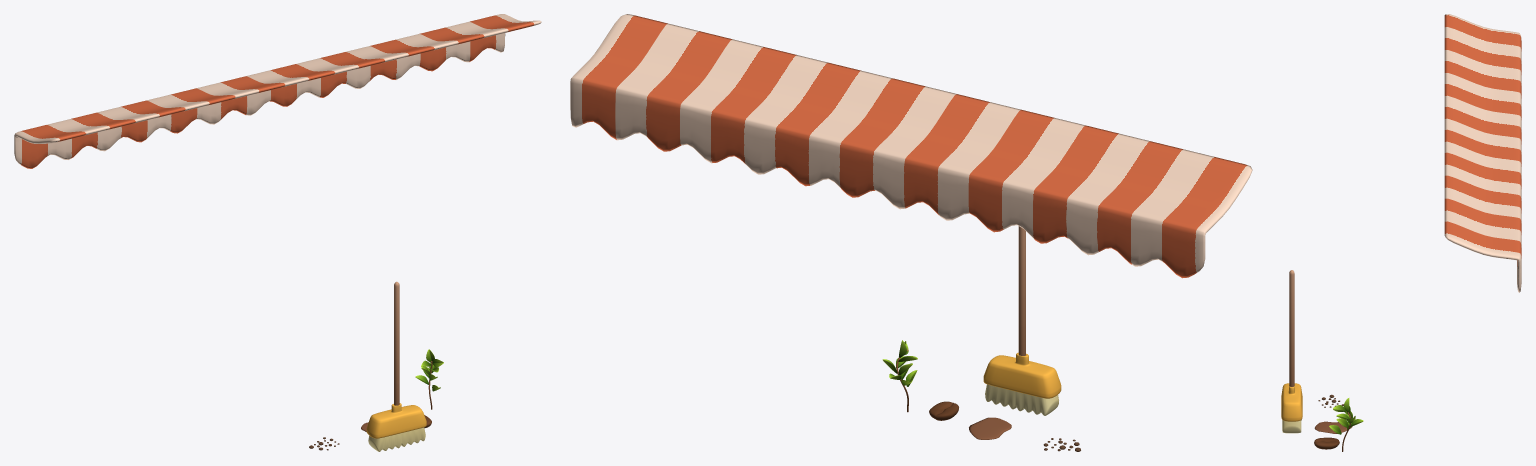
Rendered from CoffeeTeaSeeds.fbx.
The picture shows the model from 3 angles, left to right: view 1: azimuth 30°, elevation 25°; view 2: azimuth 150°, elevation 25°; view 3: azimuth 270°, elevation 25°; orthographic projection. The views are drawn at different scales.
Visible parts, largest first — view 1: Shades.001, Broom; view 2: Shades.001, Broom, Spill, TeaHarvest; view 3: Shades.001, Broom, TeaHarvest, Sphere, Spill.
Boxes of the visible parts, bbox=[...] form: Shades.001: bbox=[14, 14, 541, 168]; Broom: bbox=[366, 281, 426, 451]; Shades.001: bbox=[570, 14, 1252, 278]; Broom: bbox=[983, 226, 1061, 415]; Spill: bbox=[969, 417, 1011, 439]; TeaHarvest: bbox=[882, 340, 917, 412]; Shades.001: bbox=[1444, 14, 1521, 292]; Broom: bbox=[1281, 270, 1302, 433]; TeaHarvest: bbox=[1333, 398, 1363, 451]; Sphere: bbox=[1314, 437, 1339, 449]; Spill: bbox=[1314, 421, 1352, 433].
Size of the model in its own units: 1302 by 795 by 586.
2 materials, 2 textured.
